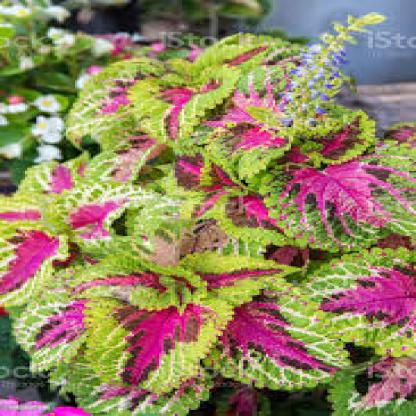Bunga Coleus: (8, 48, 392, 385)
